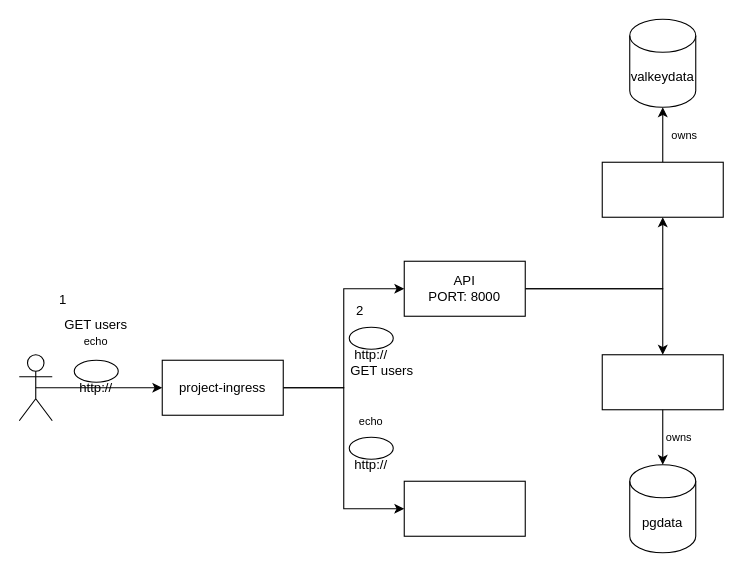
Some shapes in this 743 by 572 pixel diagram are drawn without their labels. Here are the shapes that lost their labels. From the top down, the box of each, then its label:
(601, 161, 723, 217): Cache (Valkey) PORT: 6379
(18, 354, 52, 421): User
(601, 354, 723, 410): DB (PostgreSQL) PORT: 5432
(403, 480, 525, 536): firstservice PORT: 8000
